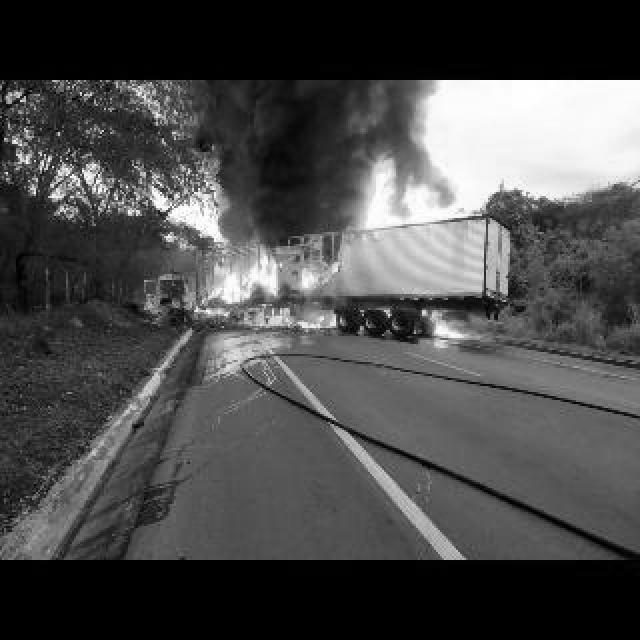Fire: (362, 160, 438, 228), (204, 258, 282, 304), (268, 308, 334, 328), (428, 312, 464, 338), (300, 268, 320, 288), (330, 260, 340, 274), (194, 308, 212, 314)
Smoke: (186, 86, 396, 232)
